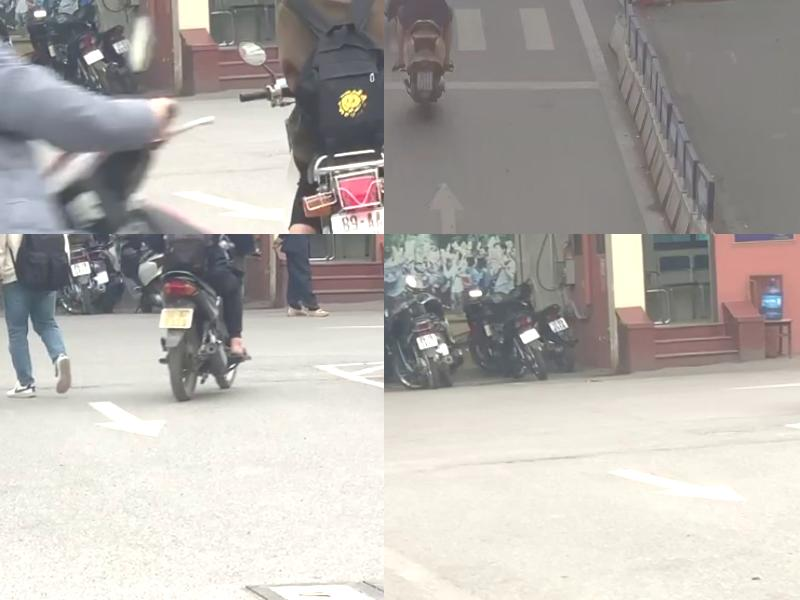license_plate: (329, 207, 384, 234), (157, 309, 195, 336), (69, 259, 92, 281), (415, 333, 438, 350), (83, 49, 104, 67), (112, 39, 133, 57), (519, 329, 540, 346), (549, 319, 568, 335), (417, 73, 432, 93)
motorcyclist: (0, 0, 245, 234), (231, 0, 384, 234), (155, 234, 258, 407), (404, 0, 453, 119)
